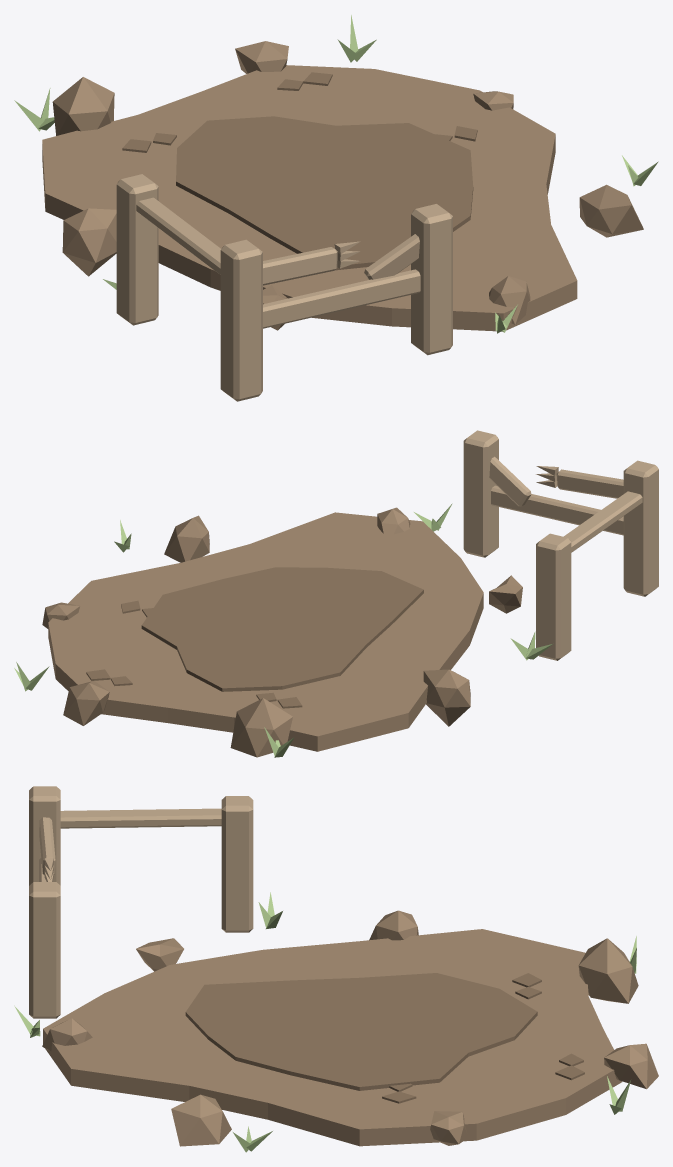
Rendered from Brisket_Seat.fbx.
3 renders of one model, top to bottom at view 1: azimuth 30°, elevation 25°; view 2: azimuth 150°, elevation 25°; view 3: azimuth 270°, elevation 25°, orthographic. The views are drawn at different scales.
Parts seen in each view (by area): view 1: BrisketSeat_Wallow_Mud, BrisketSeat_Wet_MudDark, BrisketSeat_Fence_Fence, BrisketSeat_Clods_Mud, BrisketSeat_Grass_Grass, BrisketSeat_Prints_MudDark; view 2: BrisketSeat_Wallow_Mud, BrisketSeat_Wet_MudDark, BrisketSeat_Fence_Fence, BrisketSeat_Clods_Mud, BrisketSeat_Grass_Grass, BrisketSeat_Prints_MudDark; view 3: BrisketSeat_Wallow_Mud, BrisketSeat_Wet_MudDark, BrisketSeat_Fence_Fence, BrisketSeat_Clods_Mud, BrisketSeat_Grass_Grass, BrisketSeat_Prints_MudDark.
Part boxes in pixels (x1=…): BrisketSeat_Wallow_Mud: x1=42, y1=65, x2=577, y2=331; BrisketSeat_Wet_MudDark: x1=176, y1=116, x2=473, y2=270; BrisketSeat_Fence_Fence: x1=116, y1=174, x2=452, y2=401; BrisketSeat_Clods_Mud: x1=52, y1=41, x2=643, y2=330; BrisketSeat_Grass_Grass: x1=14, y1=15, x2=658, y2=333; BrisketSeat_Prints_MudDark: x1=122, y1=72, x2=477, y2=152; BrisketSeat_Wallow_Mud: x1=48, y1=512, x2=483, y2=751; BrisketSeat_Wet_MudDark: x1=141, y1=567, x2=423, y2=691; BrisketSeat_Fence_Fence: x1=463, y1=430, x2=658, y2=660; BrisketSeat_Clods_Mud: x1=42, y1=507, x2=522, y2=757; BrisketSeat_Grass_Grass: x1=14, y1=503, x2=552, y2=757; BrisketSeat_Prints_MudDark: x1=86, y1=600, x2=302, y2=708; BrisketSeat_Wallow_Mud: x1=43, y1=929, x2=622, y2=1146; BrisketSeat_Wet_MudDark: x1=185, y1=973, x2=537, y2=1090; BrisketSeat_Fence_Fence: x1=29, y1=786, x2=253, y2=1018; BrisketSeat_Clods_Mud: x1=42, y1=910, x2=658, y2=1146; BrisketSeat_Grass_Grass: x1=14, y1=892, x2=636, y2=1152; BrisketSeat_Prints_MudDark: x1=382, y1=973, x2=584, y2=1103.
Size of the model in its own units: 7.97 by 2.54 by 8.98.
